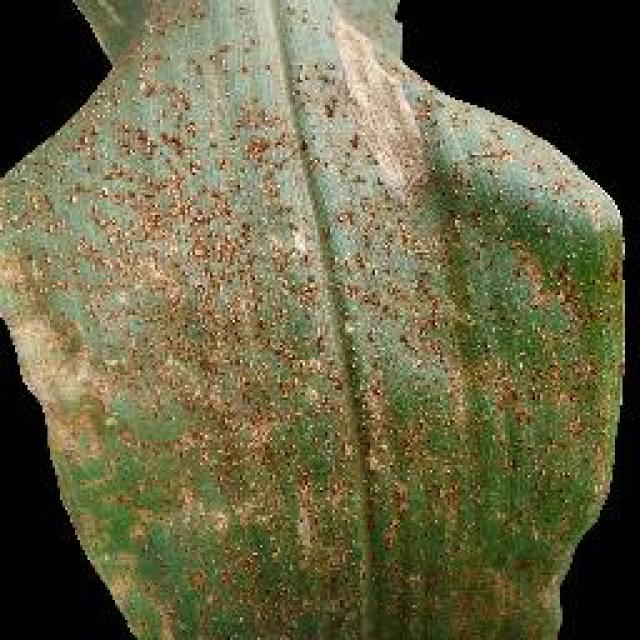Corn Common Rust: (79, 57, 622, 640)
